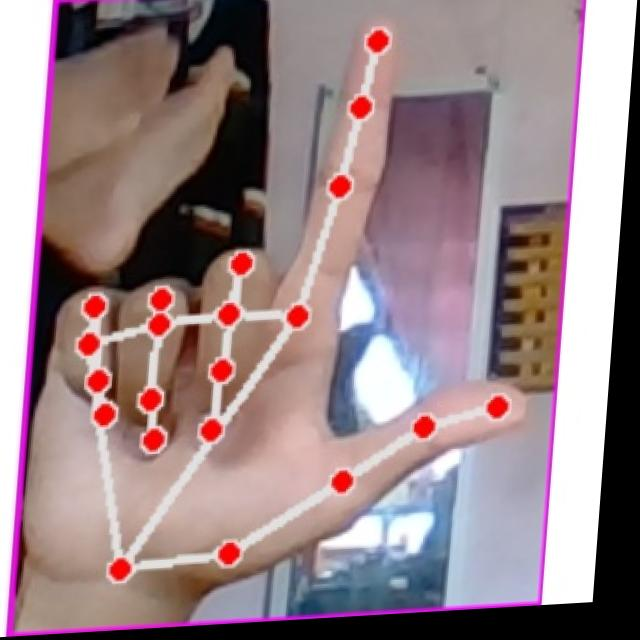L: (33, 4, 566, 602)
